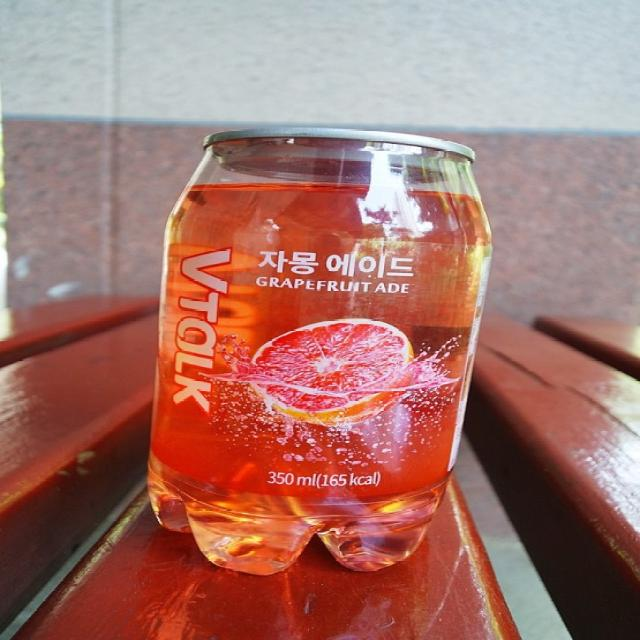Cans: (124, 85, 500, 584)
